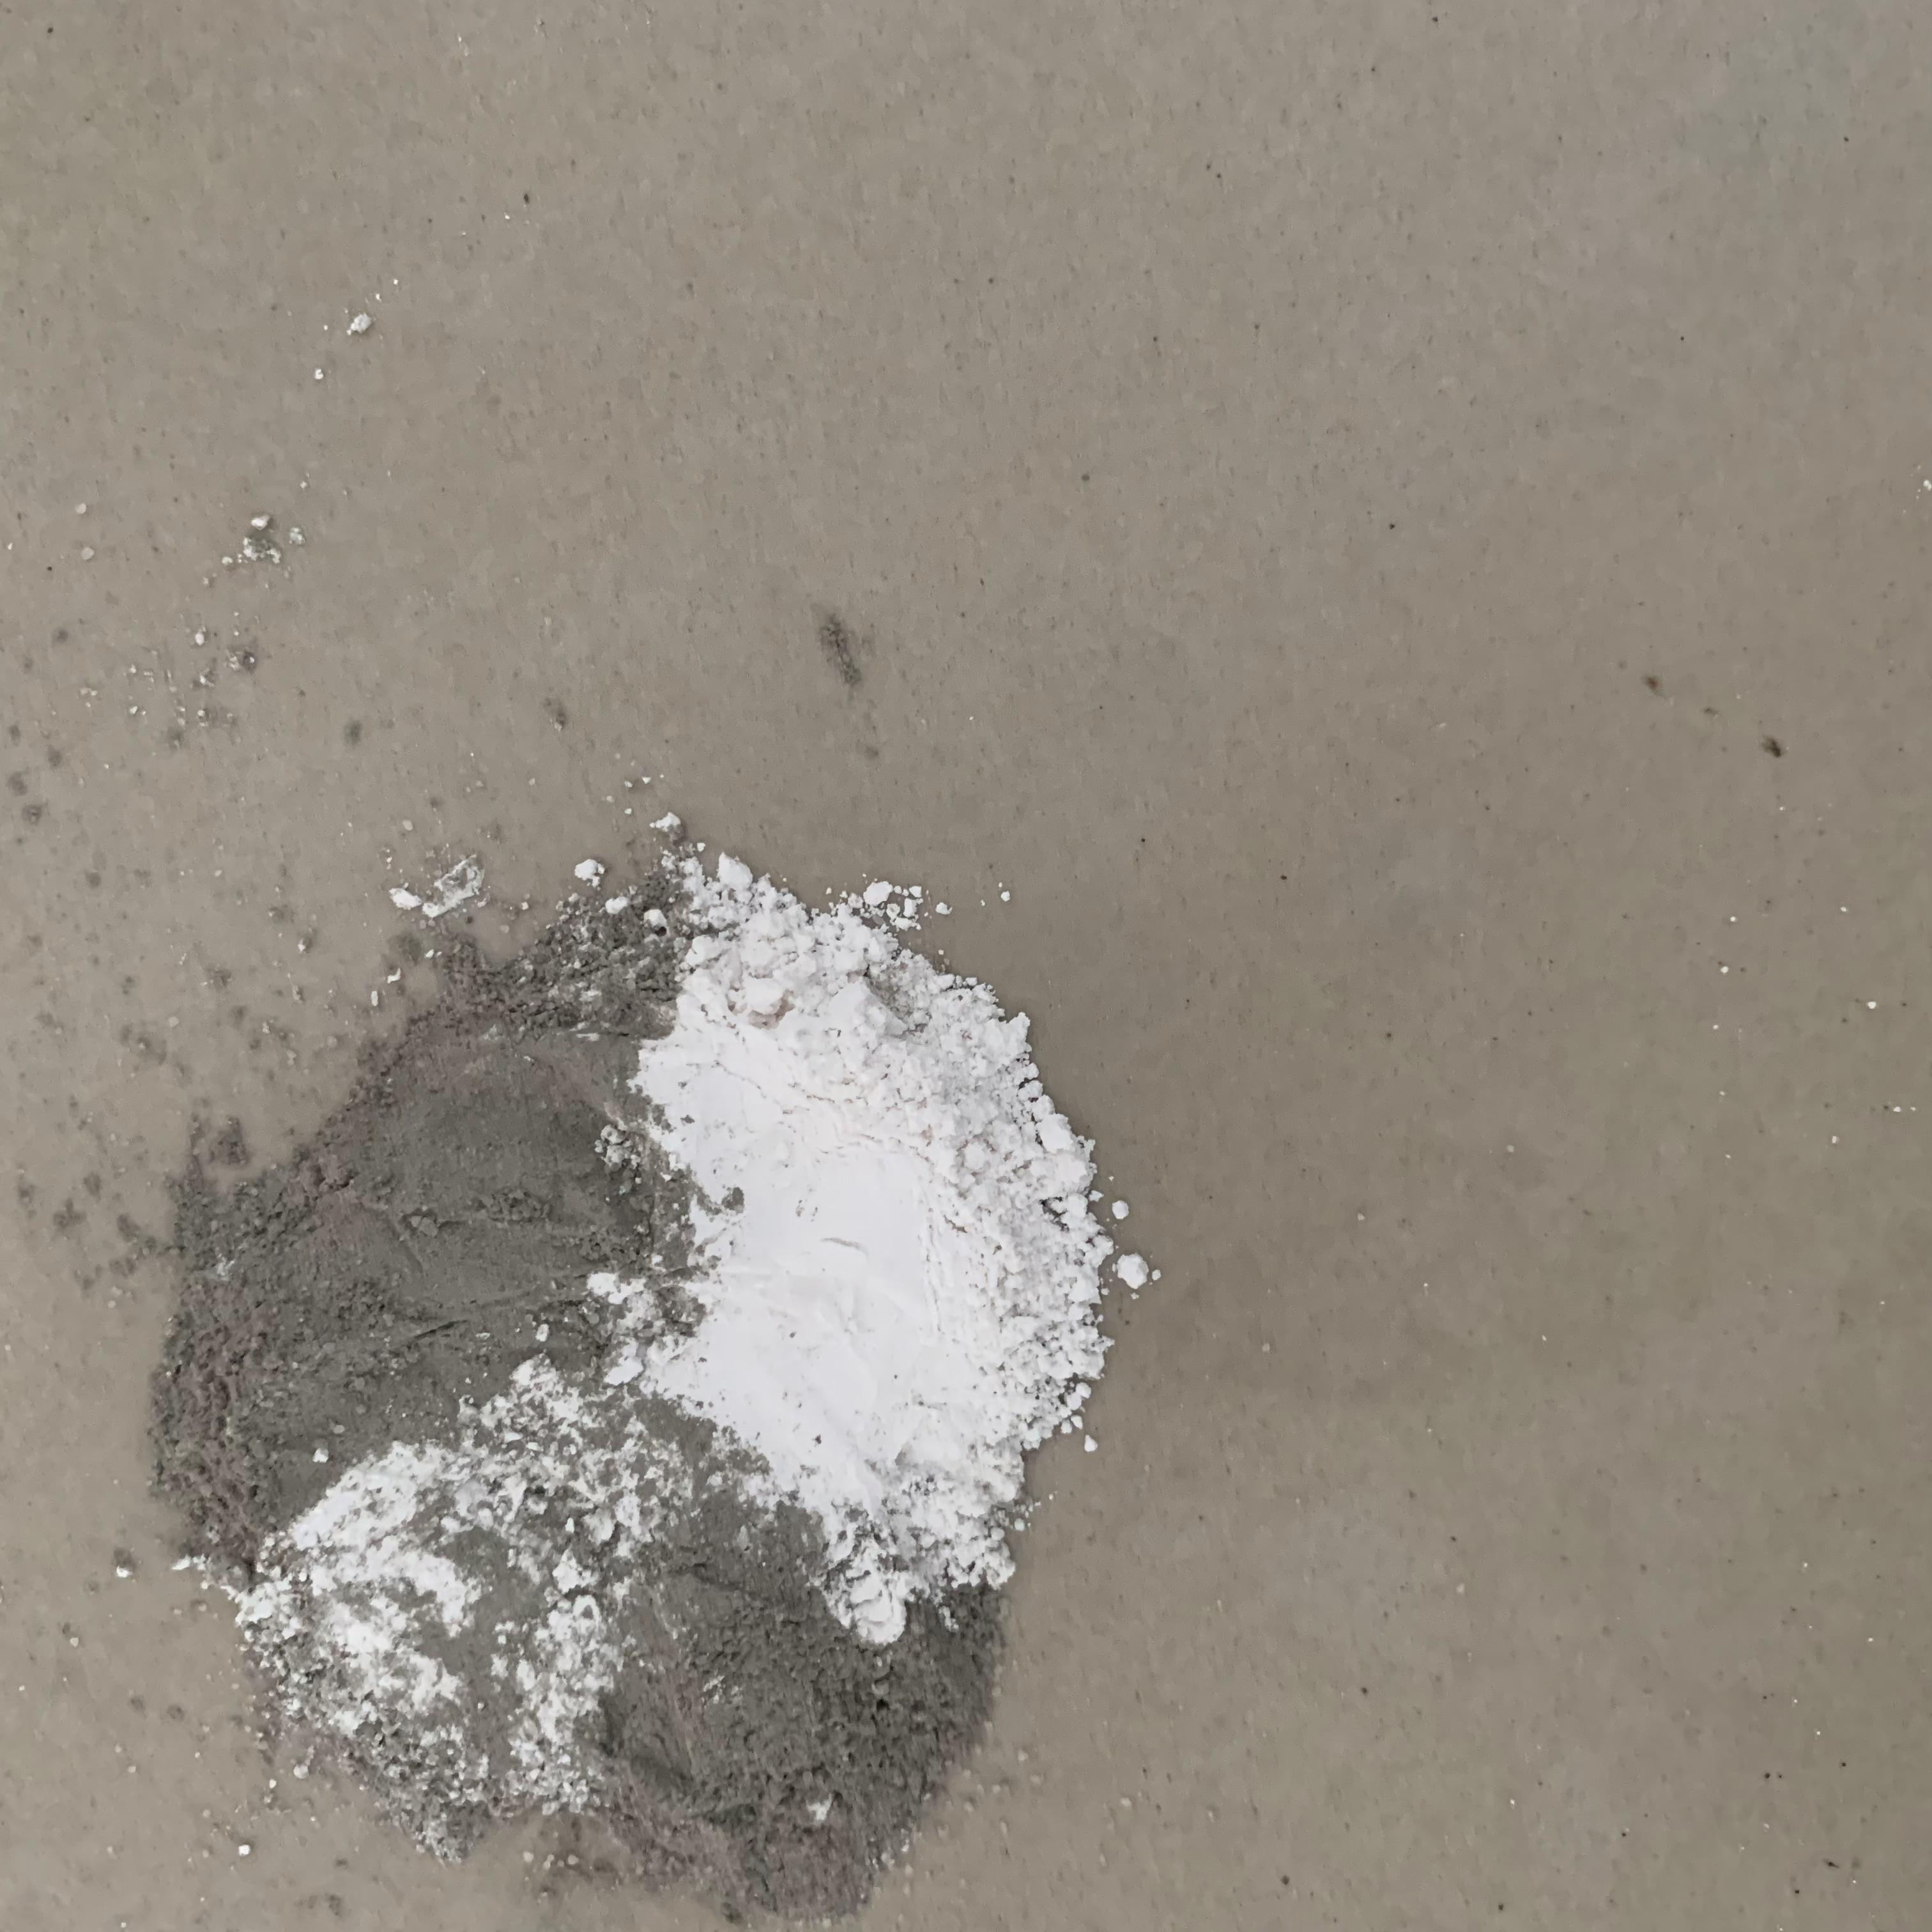ash pile: (147, 803, 1169, 1932)
